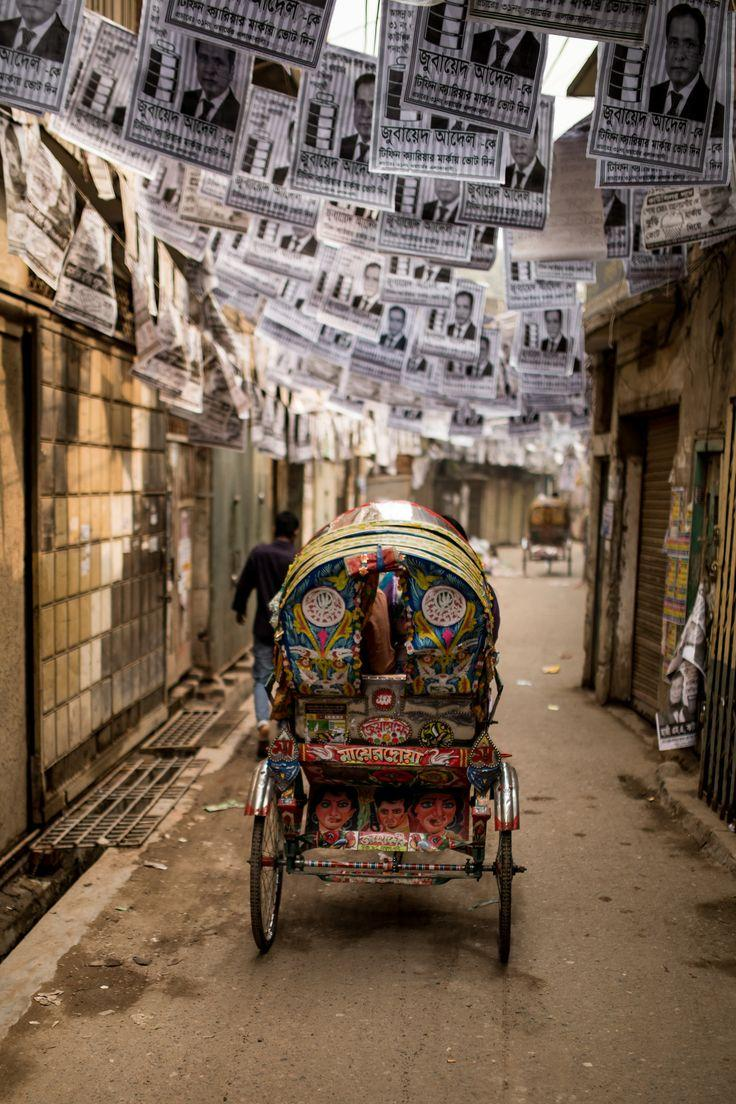Rickshaw: (246, 501, 523, 961), (521, 494, 571, 575)
